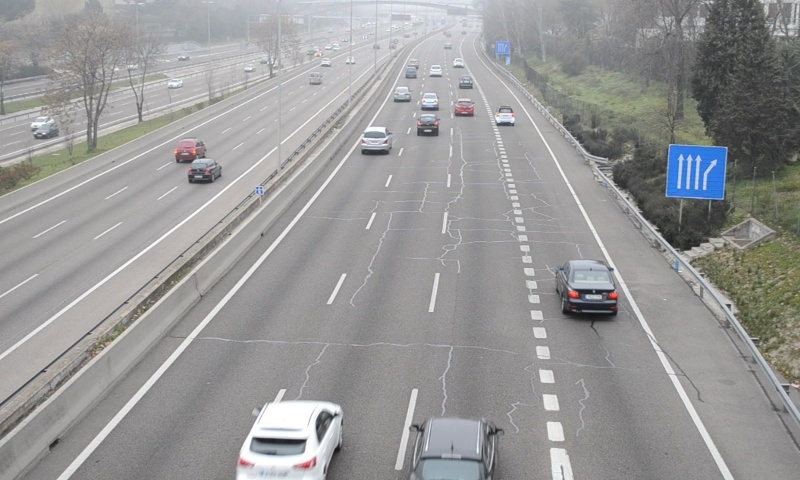car: (232, 401, 344, 480), (410, 416, 498, 480), (554, 258, 622, 316), (360, 126, 392, 153), (416, 114, 440, 137), (494, 104, 516, 126), (454, 98, 475, 118), (392, 86, 412, 103), (420, 92, 438, 110), (458, 75, 473, 89)
